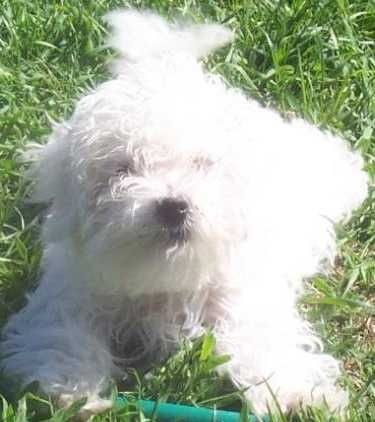dog: (42, 21, 314, 380)
